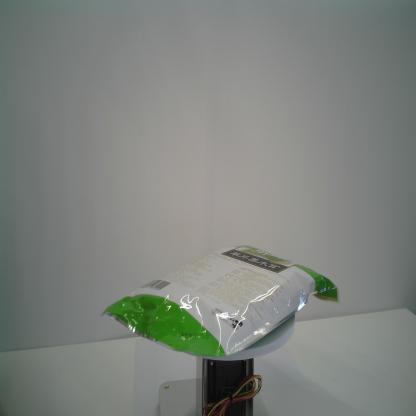Dried Food: (100, 245, 340, 356)
